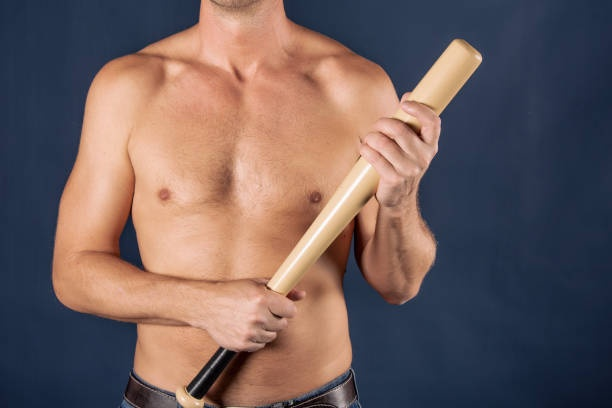bita: (182, 34, 482, 403)
